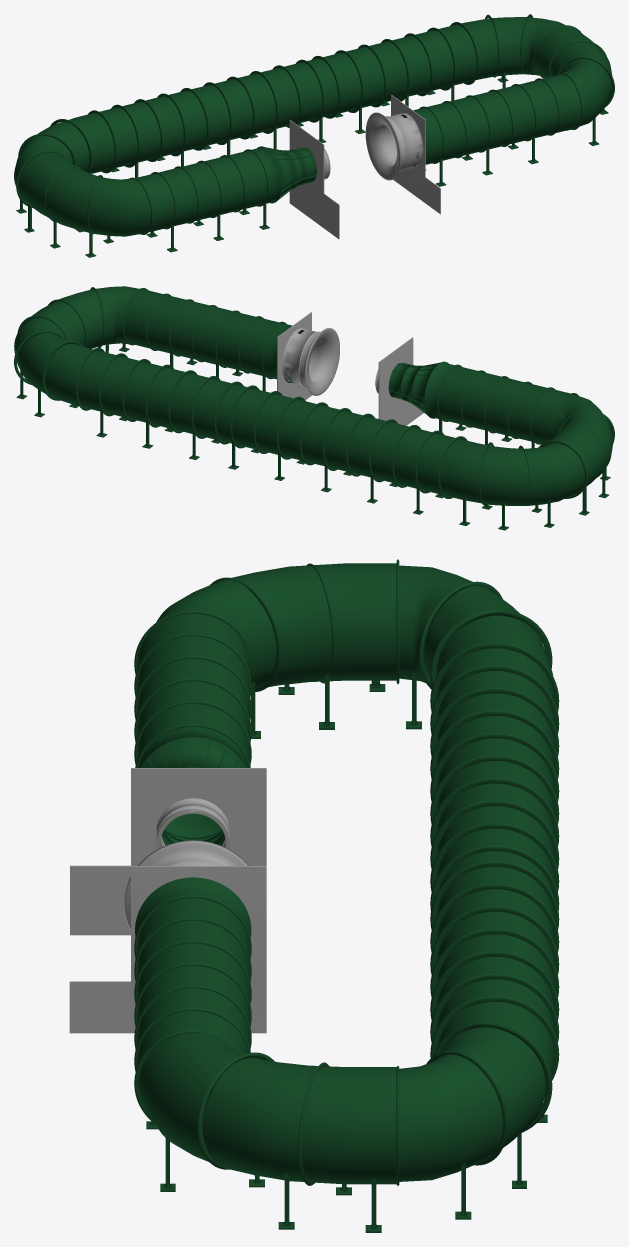
Rendered from FD_zhuti_190702.FBX.
3 views of the same model, one above another, from view 1: azimuth 30°, elevation 25°; view 2: azimuth 150°, elevation 25°; view 3: azimuth 270°, elevation 25° (orthographic). The views are drawn at different scales.
Parts seen in each view (by area): view 1: Fedong_zhuti(ta xian); view 2: Fedong_zhuti(ta xian); view 3: Fedong_zhuti(ta xian).
Part boxes in pixels (<box>): Fedong_zhuti(ta xian): <box>14,14,614,257</box>; Fedong_zhuti(ta xian): <box>14,286,614,530</box>; Fedong_zhuti(ta xian): <box>69,559,559,1232</box>.
Size of the model in its own units: 6859 by 963 by 2551.
